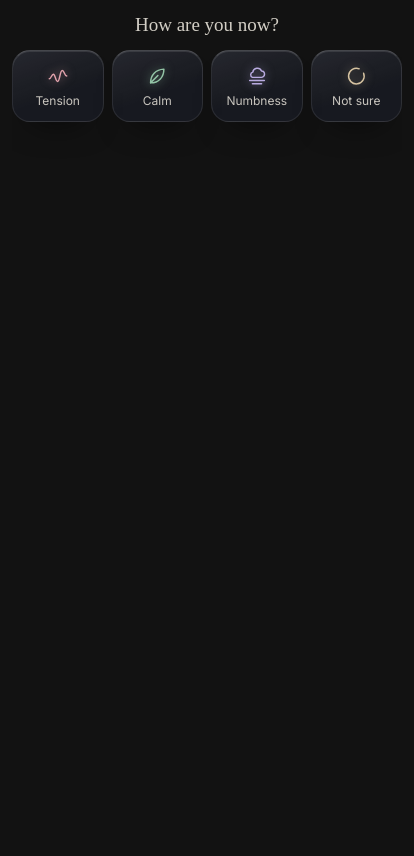
Test: «Πώς είσαι τώρα;» after a practice › numbness after a Space practice: the drifting note first
Click the button "Numbness" at (257, 86), box [211, 50, 302, 122]
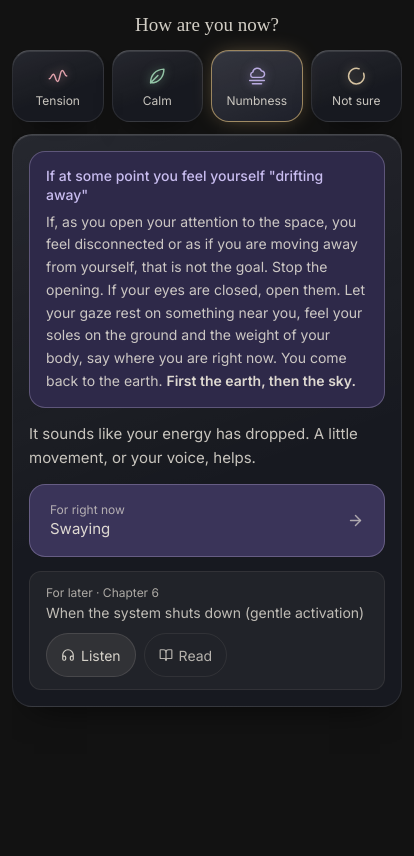
Expected: the element "drifting away" is shown, [29, 151, 385, 408]
